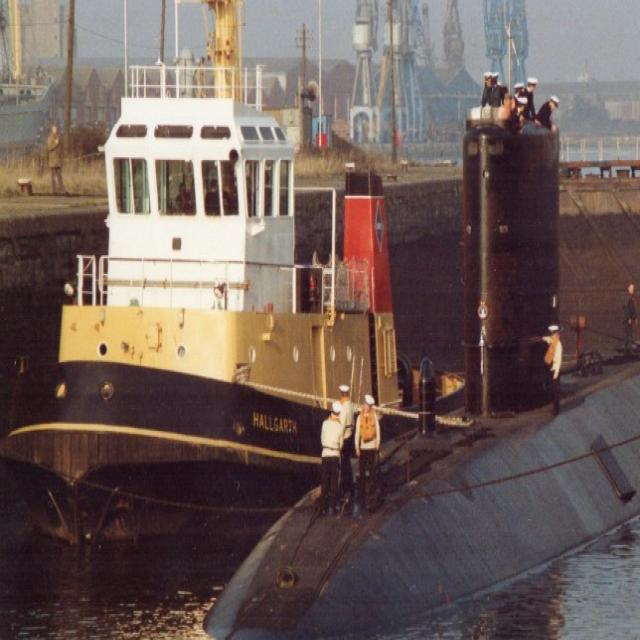submarine: (201, 125, 640, 640)
